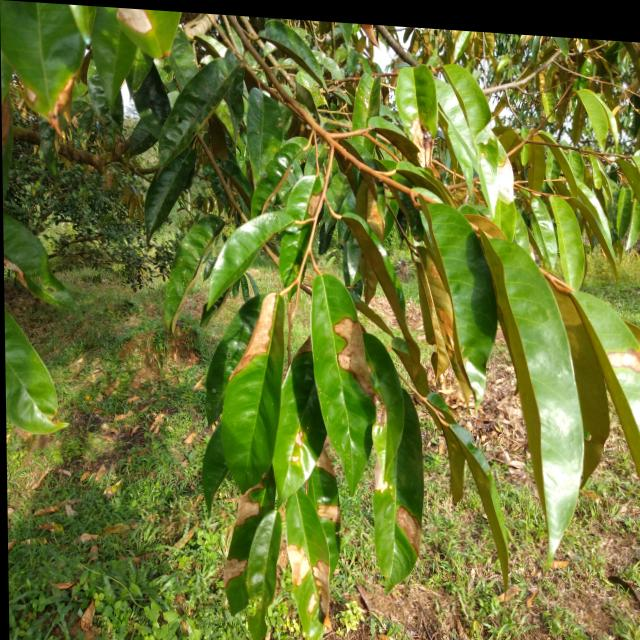Leaf Blight: (223, 289, 282, 383), (326, 292, 367, 404), (213, 490, 260, 582), (283, 533, 334, 609), (392, 489, 435, 547), (110, 6, 158, 49)
